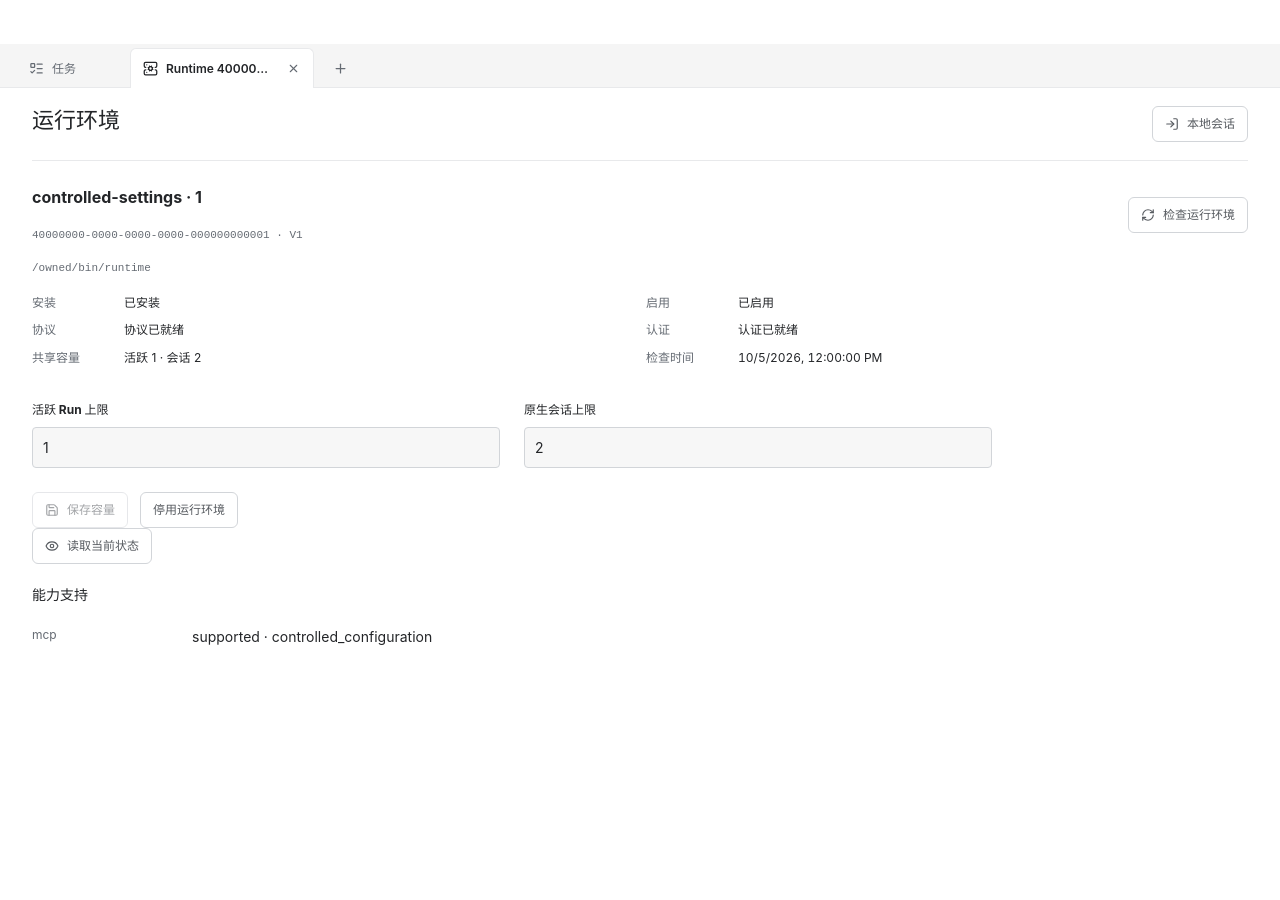
Test case: explicit runtime management › retains a conflicted draft and parent until an explicit current-version review
Step 1. Replace the text in the number field labelled "活跃 Run 上限" with "2" → (266,447), box [32, 427, 500, 468]
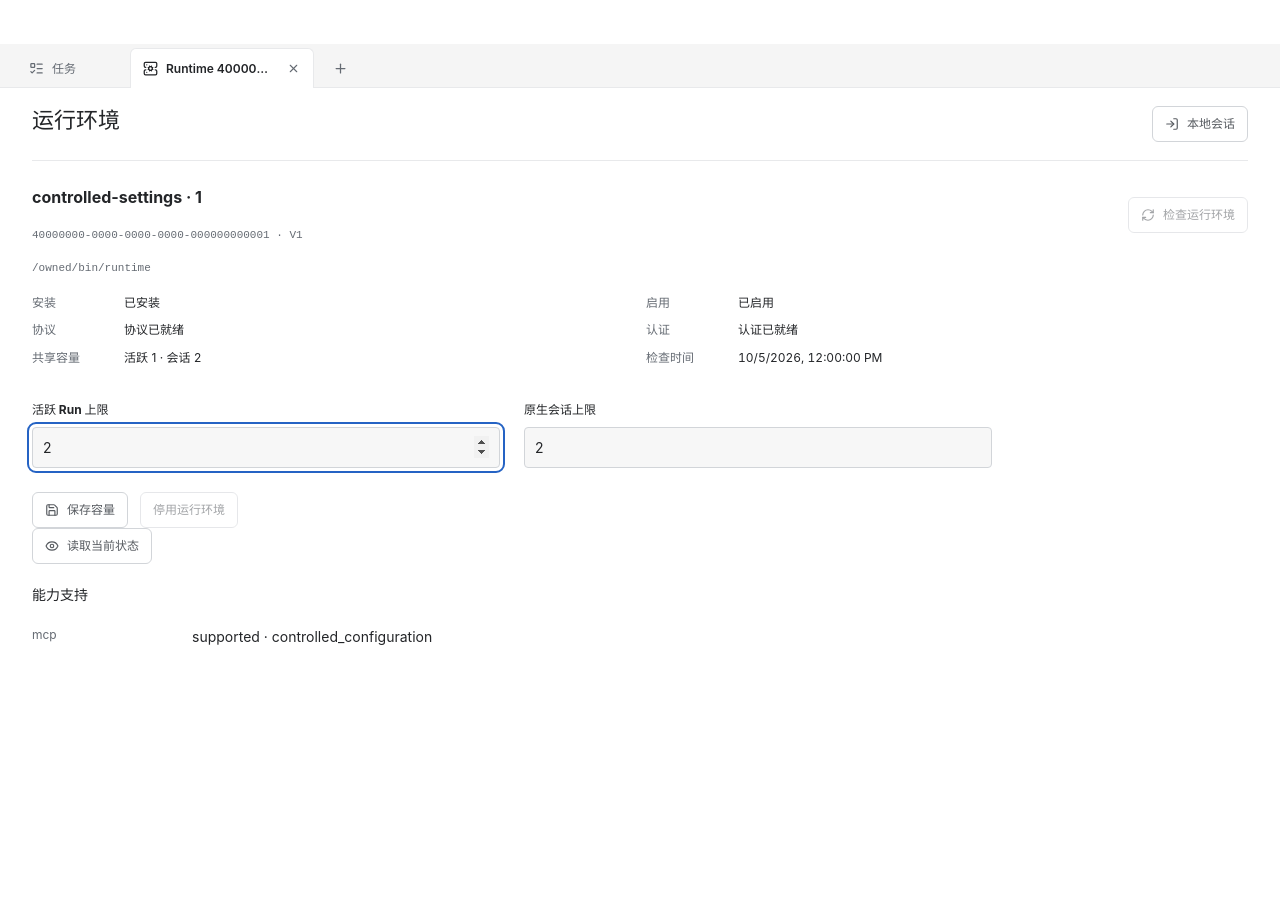
Step 2. Click the button "保存容量" → (80,510), box [32, 492, 128, 528]
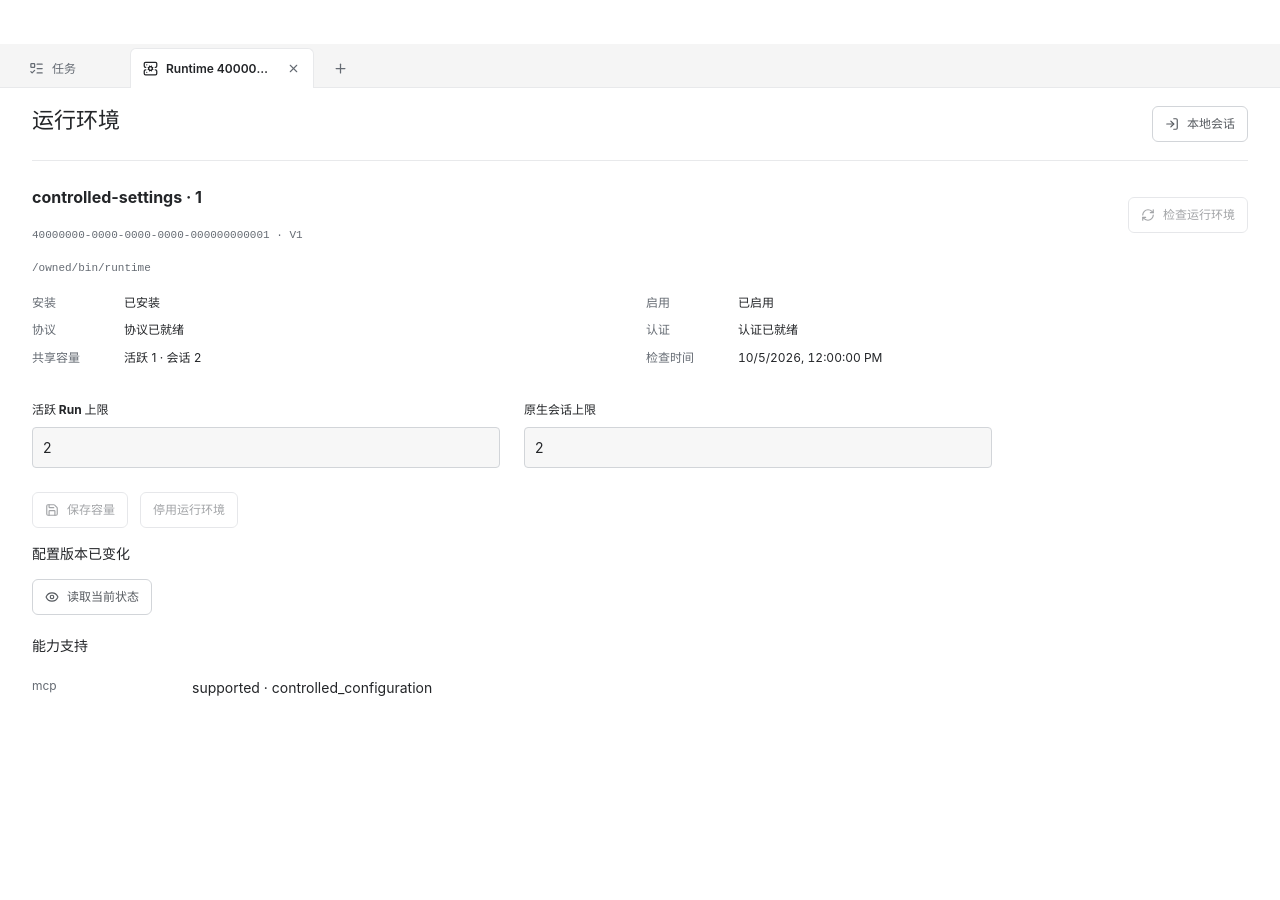
expect the text "配置版本已变化" is shown: met, box [32, 545, 130, 562]
expect the button "保存容量" is disabled: met, box [32, 492, 128, 528]
Step 3. Click the button "读取当前状态" → (92,597), box [32, 579, 152, 615]
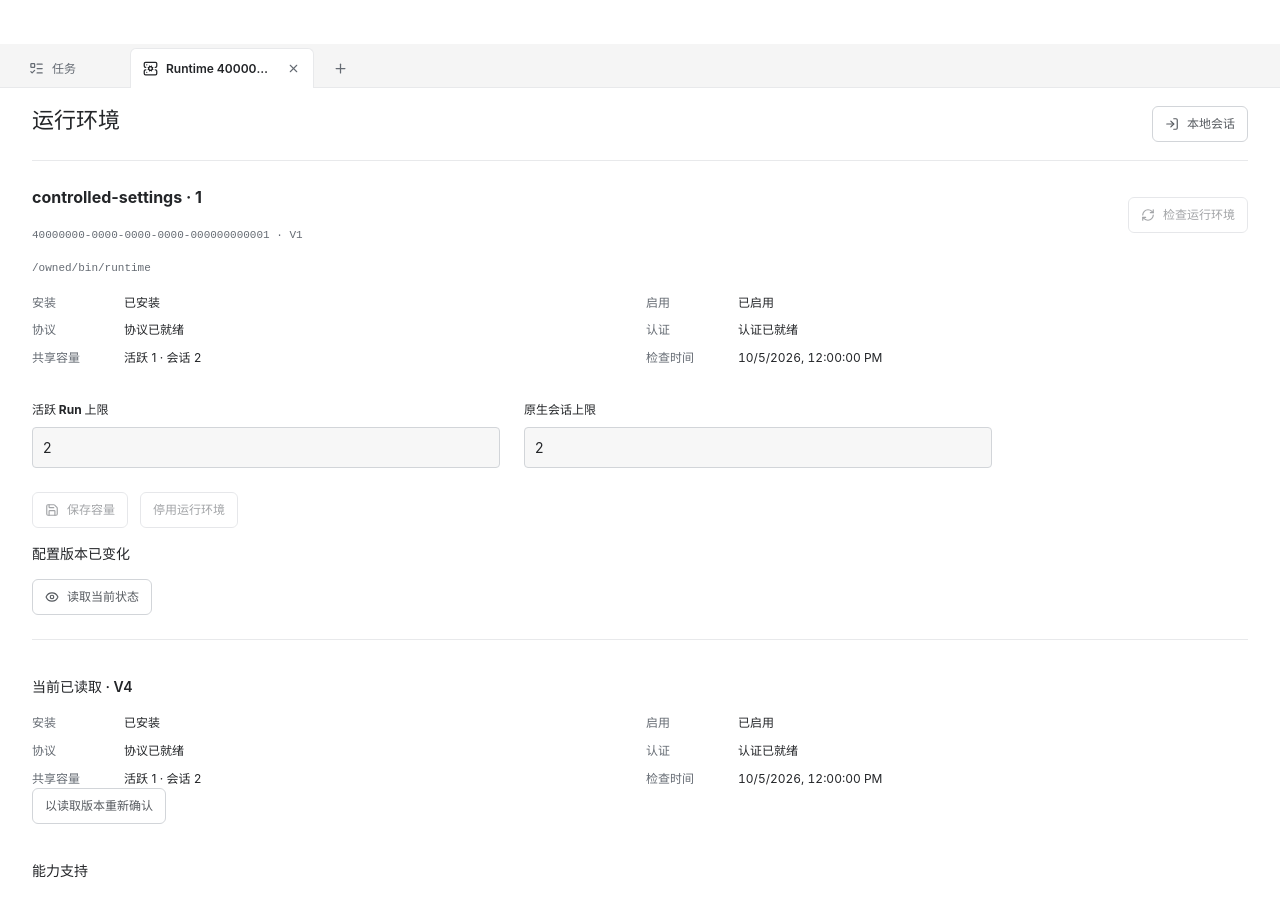
Step 4. Click the button "以读取版本重新确认" → (99,806), box [32, 788, 166, 824]
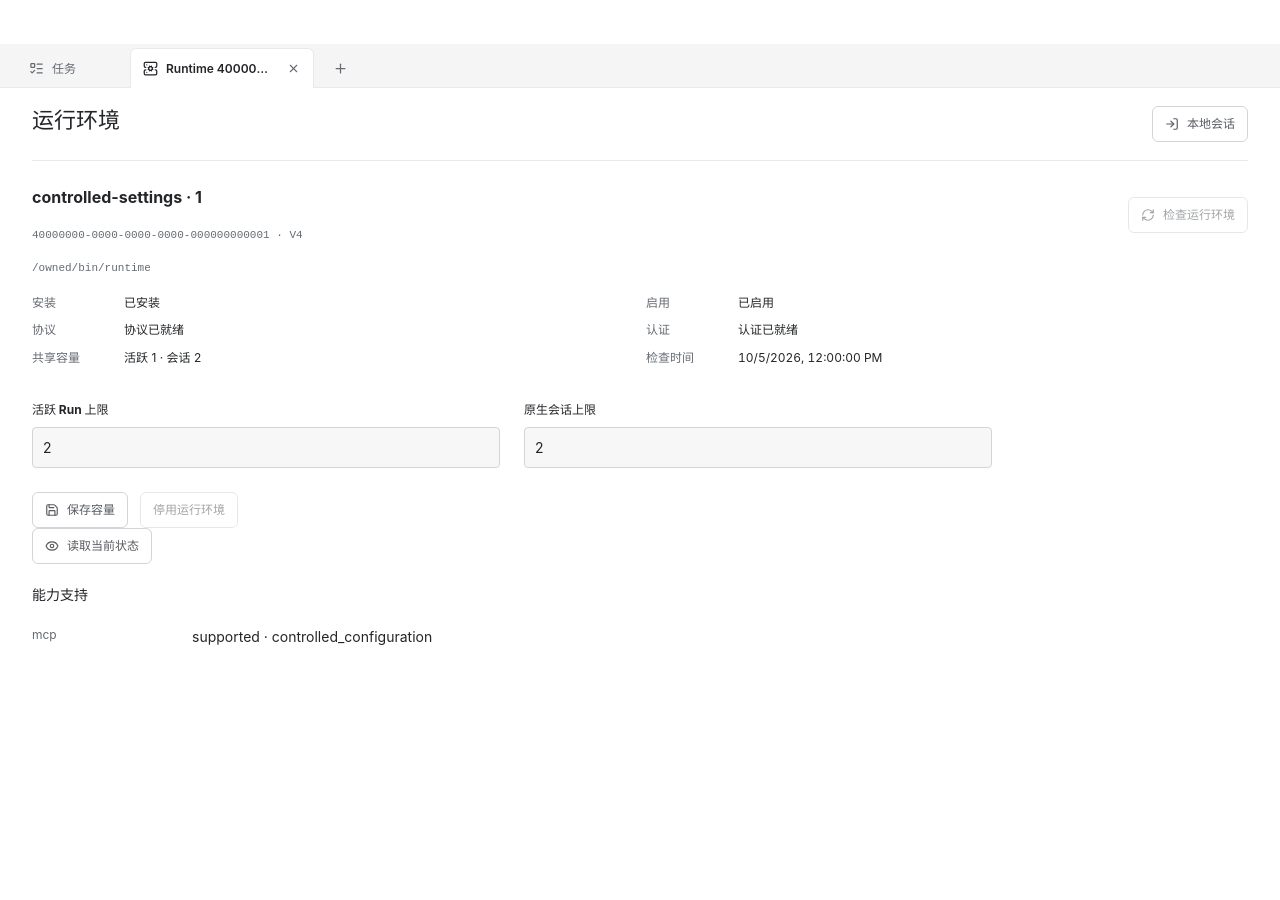
Step 5. Click the button "保存容量" → (80,510), box [32, 492, 128, 528]
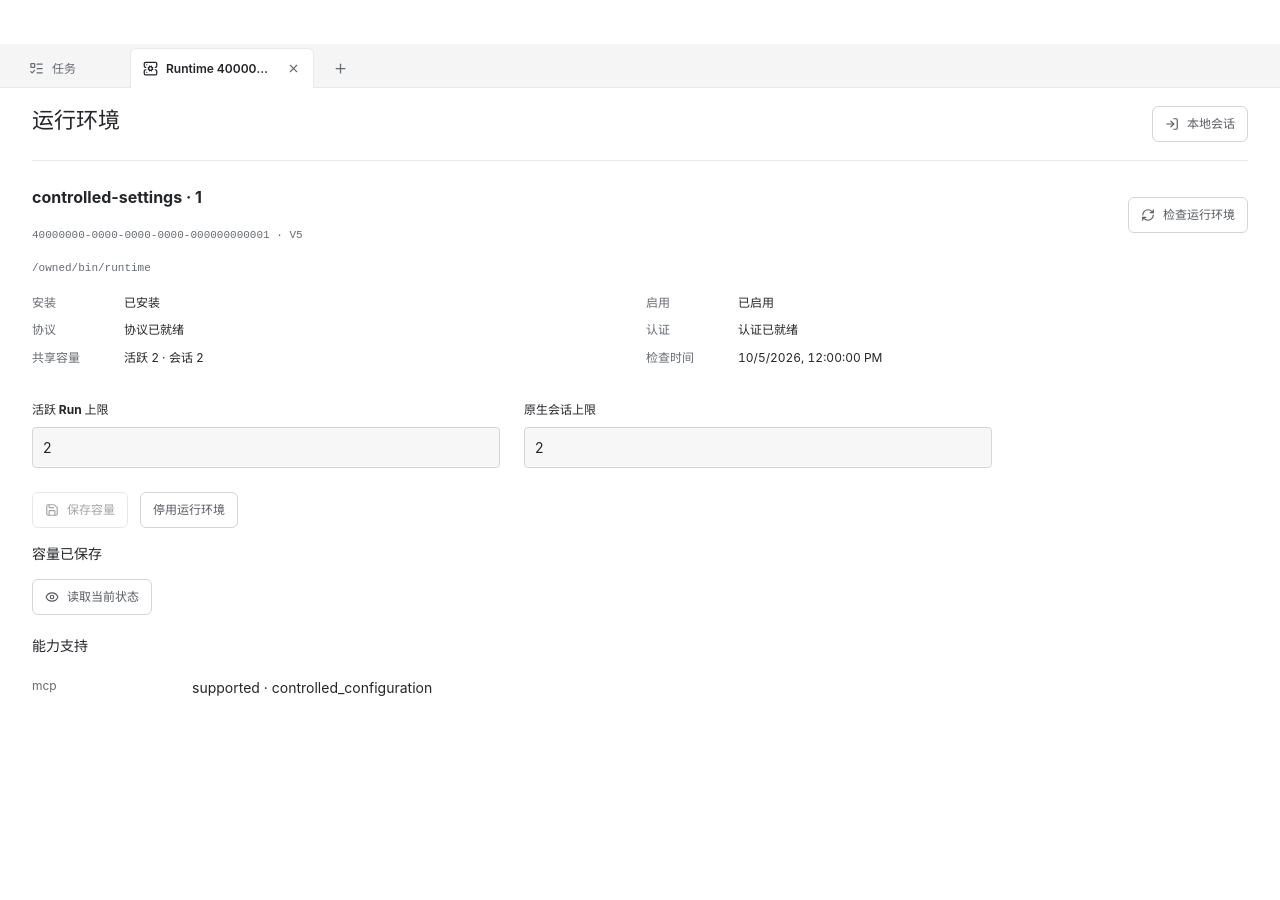
expect the text "容量已保存" is shown: met, box [32, 545, 102, 562]
